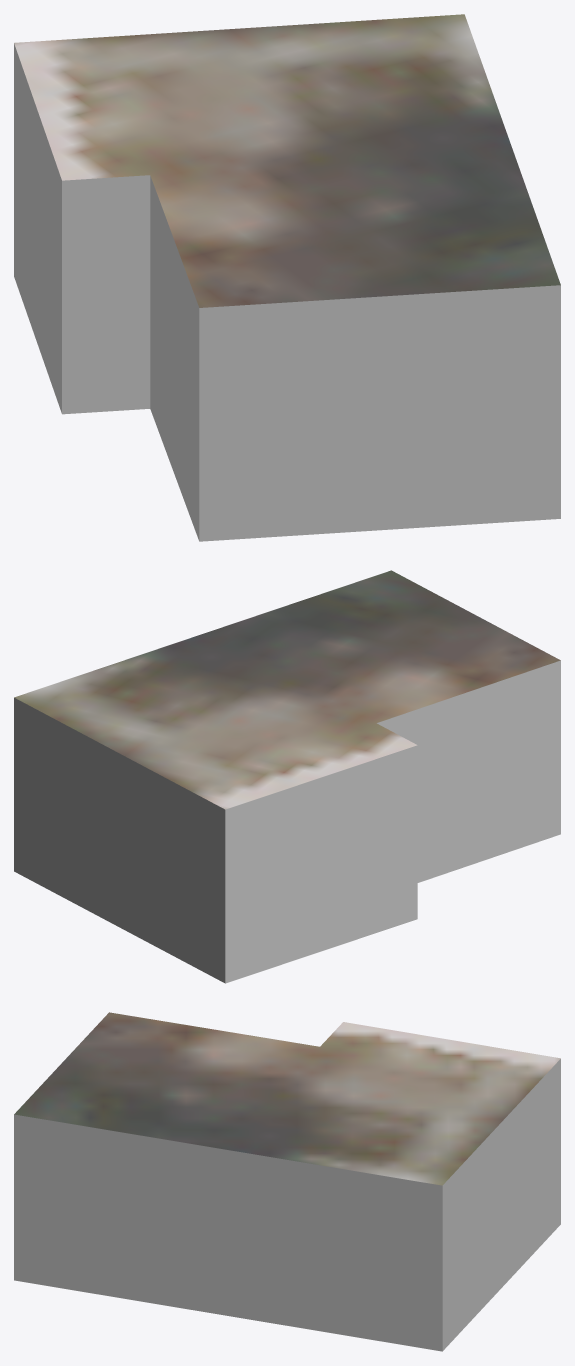
Rendered from DEBW_0010007Txfc.gltf.
3 renders of one model, top to bottom at view 1: azimuth 30°, elevation 25°; view 2: azimuth 150°, elevation 25°; view 3: azimuth 270°, elevation 25°, orthographic. The views are drawn at different scales.
Parts seen in each view (by area): view 1: Z_UP; view 2: Z_UP; view 3: Z_UP.
Boxes of the visible parts, x1=… form: Z_UP: x1=14, y1=14, x2=560, y2=541; Z_UP: x1=14, y1=570, x2=560, y2=983; Z_UP: x1=14, y1=1012, x2=560, y2=1351.
Bounding box in the file's own units: 5.99 × 2.67 × 7.99.
2 materials, 1 textured.
